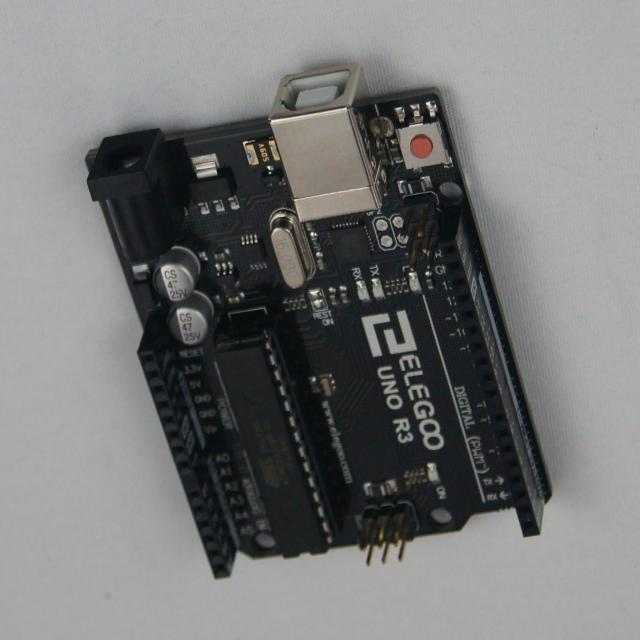Arduino Uno -Black-: (87, 65, 552, 579)
